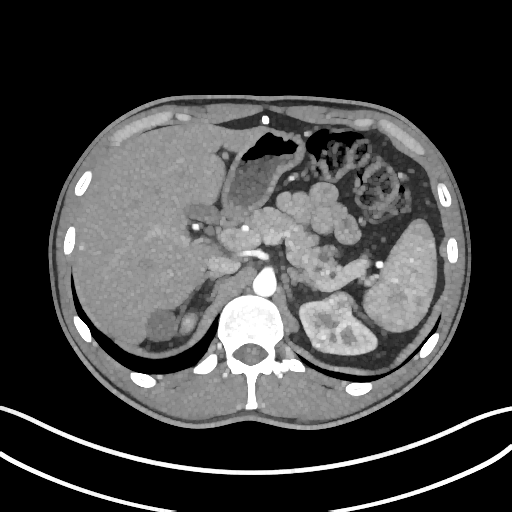Lesion: (312, 329, 327, 349)
